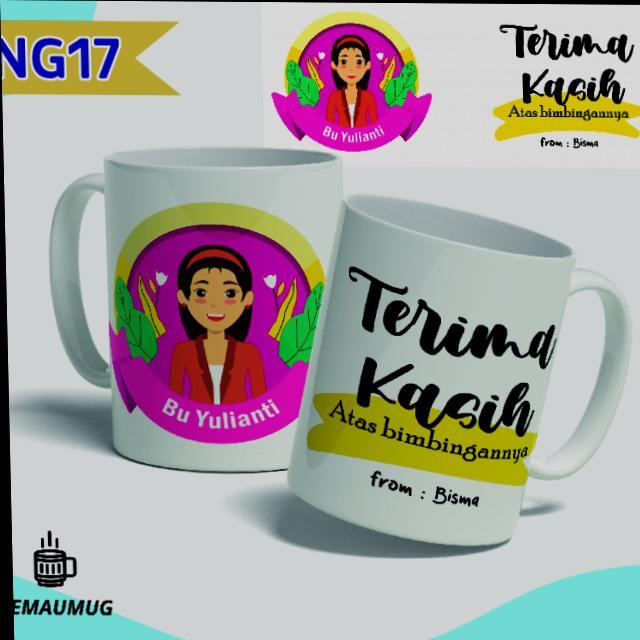cup: (40, 140, 383, 522)
